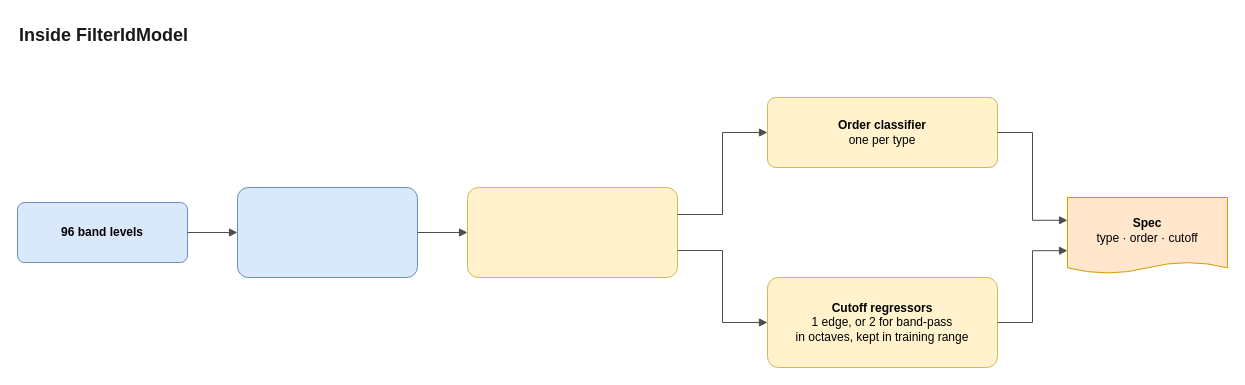
This 1245x385 diagram has some shape labels left out. The shapes that lost their labels are listed below. From the top down, each one's box as (x1, y1, x2, y2) in pixels, then its label:
(236, 186, 418, 278): _with_slopes + 95 slopes = 191 numbers
(466, 186, 678, 278): Type classifier high-pass · low-pass · band-pass
